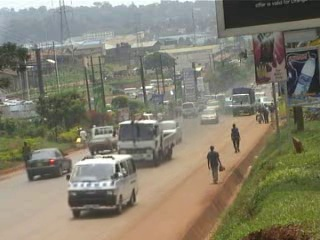Car: (24, 145, 72, 181), (156, 117, 184, 145), (198, 107, 220, 126), (204, 97, 220, 112)
Motorcycle: (156, 109, 169, 122)
